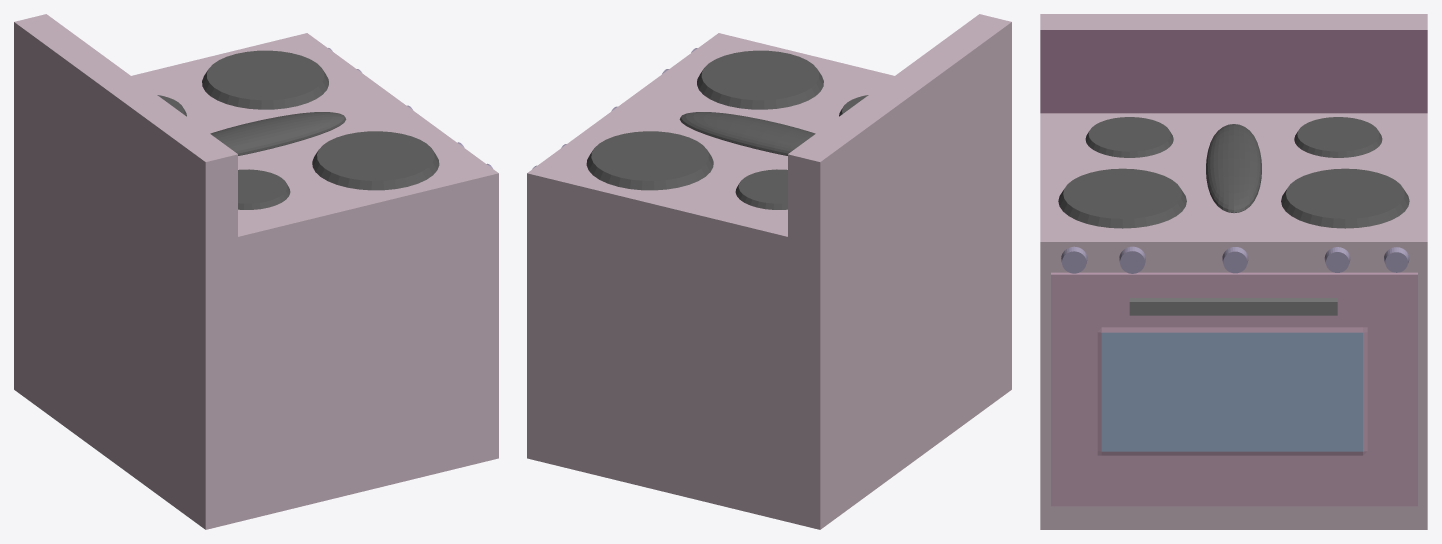
Rendered from Stove.fbx.
3 renders of one model, left to right at view 1: azimuth 30°, elevation 25°; view 2: azimuth 150°, elevation 25°; view 3: azimuth 270°, elevation 25°, orthographic.
Visible parts, largest first — view 1: Stove, Burners, Cube; view 2: Stove, Burners, Cube; view 3: Stove, glass, Burners, Cube, Handle, Circle.
Boxes of the visible parts, x1=… form: Stove: x1=14, y1=14, x2=498, y2=529; Burners: x1=157, y1=50, x2=439, y2=209; Cube: x1=210, y1=112, x2=346, y2=155; Stove: x1=527, y1=14, x2=1011, y2=529; Burners: x1=586, y1=50, x2=868, y2=209; Cube: x1=679, y1=112, x2=815, y2=155; Stove: x1=1040, y1=14, x2=1427, y2=529; glass: x1=1051, y1=272, x2=1417, y2=506; Burners: x1=1058, y1=117, x2=1409, y2=228; Cube: x1=1206, y1=124, x2=1261, y2=212; Handle: x1=1129, y1=298, x2=1337, y2=315; Circle: x1=1061, y1=246, x2=1409, y2=273.
Size of the model in its own units: 103 by 118 by 112.
